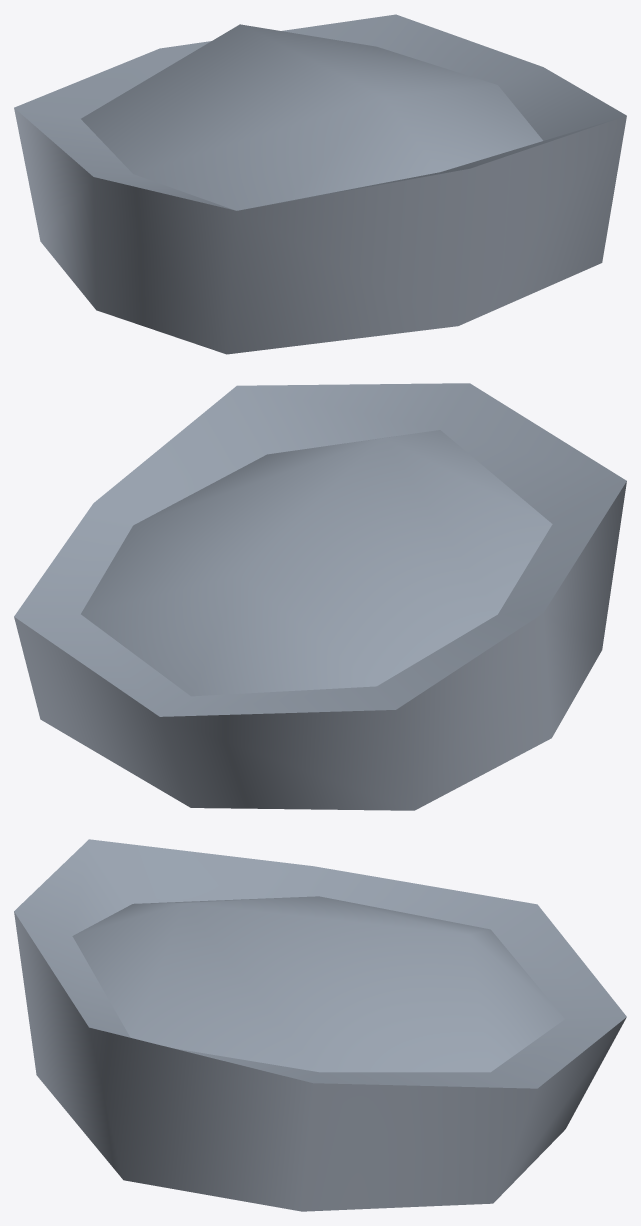
File: hat_sailor.fbx
3 views of the same model, one above another, from view 1: azimuth 30°, elevation 25°; view 2: azimuth 150°, elevation 25°; view 3: azimuth 270°, elevation 25° (orthographic).
Visible parts, largest first — view 1: hat_sailor; view 2: hat_sailor; view 3: hat_sailor.
Boxes of the visible parts, x1=… form: hat_sailor: x1=14, y1=14, x2=626, y2=354; hat_sailor: x1=14, y1=383, x2=626, y2=810; hat_sailor: x1=14, y1=839, x2=626, y2=1211.
Bounding box in the file's own units: 0.6446 × 0.309 × 0.7599.
